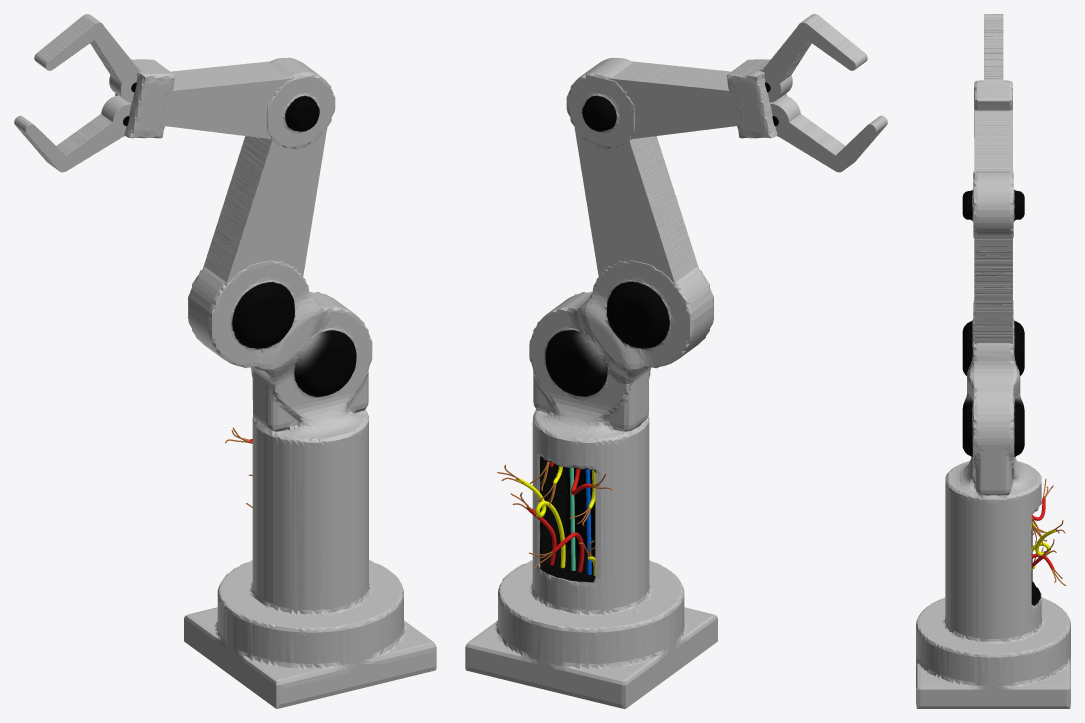
The model's file is roboterarm_kaputt_1.glb.
3 renders of one model, left to right at view 1: azimuth 30°, elevation 25°; view 2: azimuth 150°, elevation 25°; view 3: azimuth 270°, elevation 25°, orthographic. The views are drawn at different scales.
Visible parts, largest first — view 1: 283512_23_05_25_13_54_47_0, 283512_23_05_25_13_54_47_1; view 2: 283512_23_05_25_13_54_47_0, 283512_23_05_25_13_54_47_1, 283512_23_05_25_13_54_47_4; view 3: 283512_23_05_25_13_54_47_0, 283512_23_05_25_13_54_47_1, 283512_23_05_25_13_54_47_4.
Part boxes in pixels (x1=…): 283512_23_05_25_13_54_47_0: x1=115, y1=57, x2=436, y2=708; 283512_23_05_25_13_54_47_1: x1=14, y1=14, x2=327, y2=285; 283512_23_05_25_13_54_47_0: x1=465, y1=57, x2=786, y2=708; 283512_23_05_25_13_54_47_1: x1=574, y1=14, x2=887, y2=286; 283512_23_05_25_13_54_47_4: x1=515, y1=462, x2=595, y2=575; 283512_23_05_25_13_54_47_0: x1=916, y1=80, x2=1070, y2=708; 283512_23_05_25_13_54_47_1: x1=974, y1=14, x2=1012, y2=343; 283512_23_05_25_13_54_47_4: x1=1031, y1=497, x2=1055, y2=569.
Bounding box in the file's own units: 27.2 × 48.34 × 11.83.
13 materials, 13 textured.
